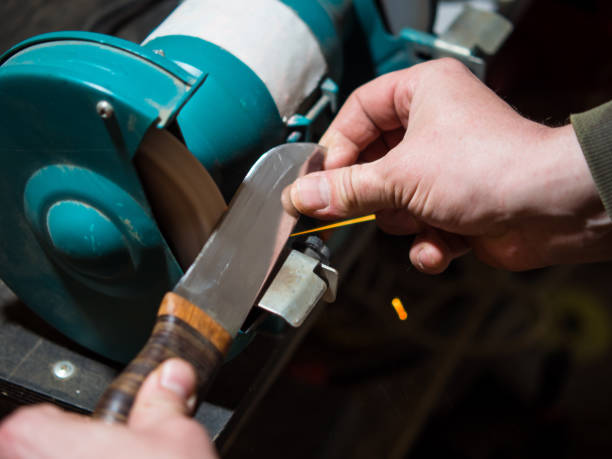knife: (95, 142, 331, 425)
